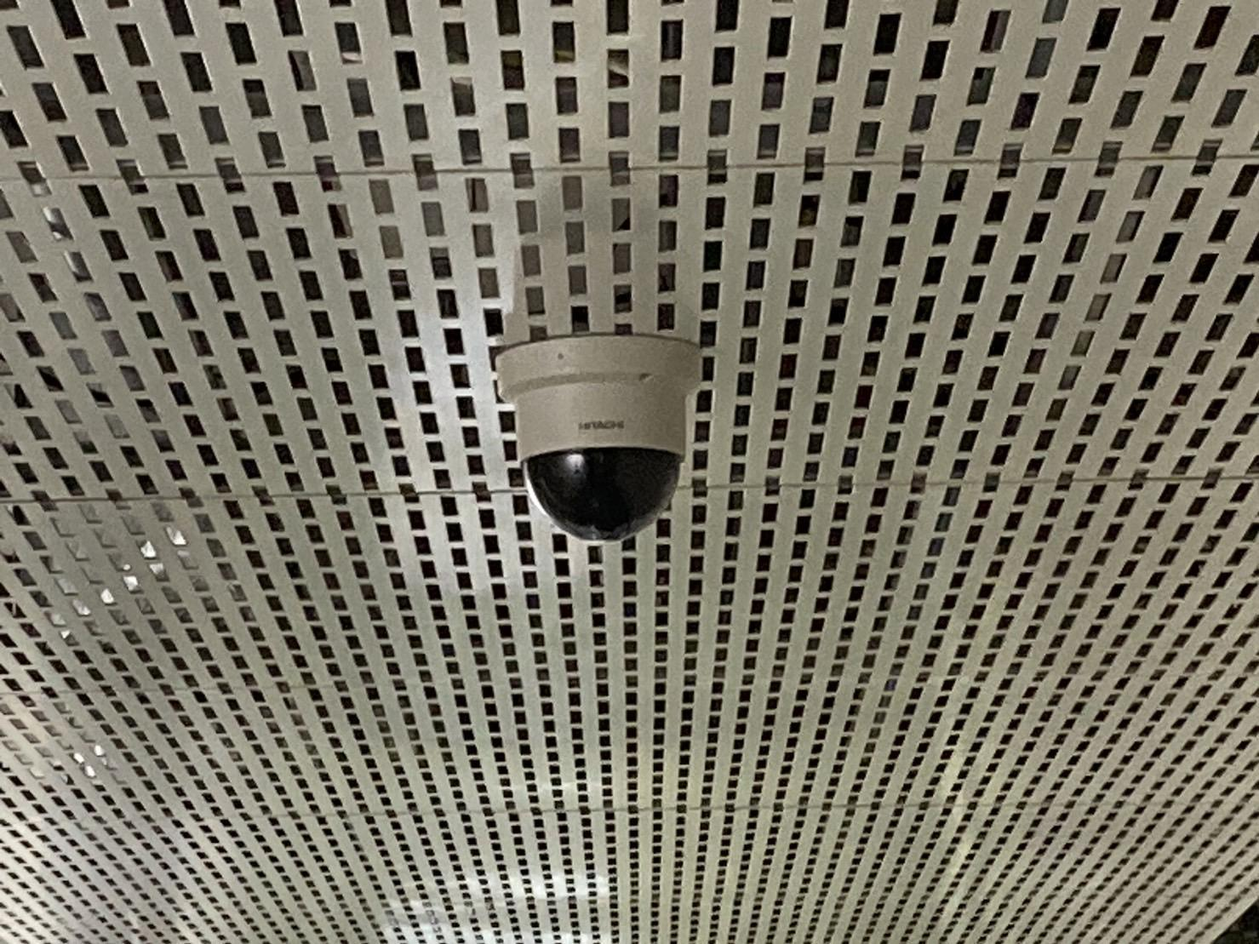maru: (502, 323, 708, 550)
